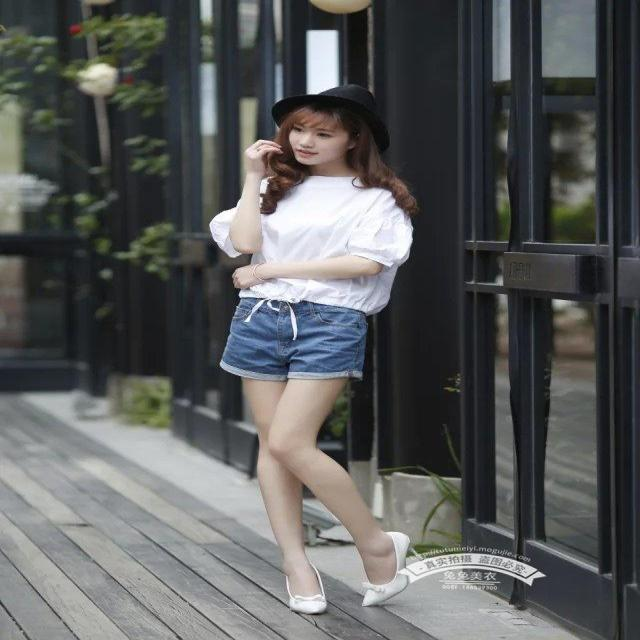short-sleeve-top: (222, 167, 452, 300)
shorts: (236, 306, 382, 394)
